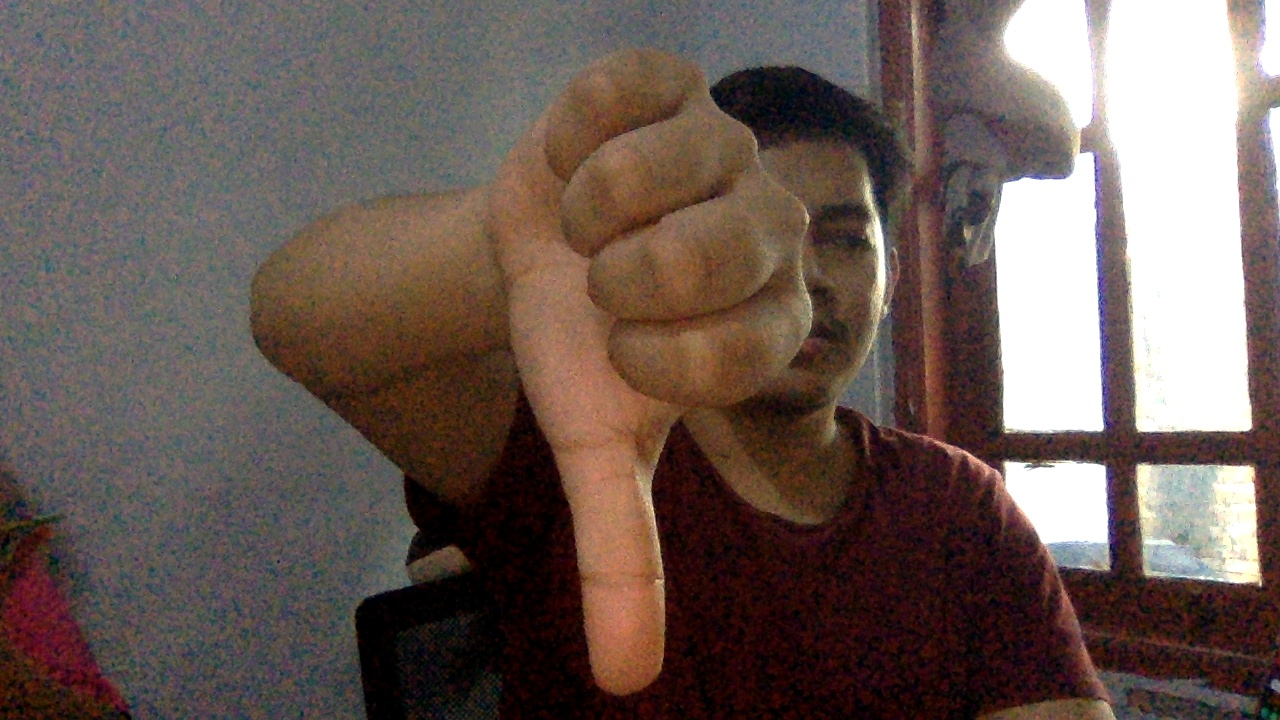thumbsdown: (472, 23, 828, 720)
